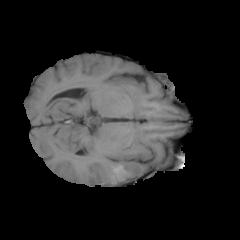glioma: (105, 154, 148, 186)
